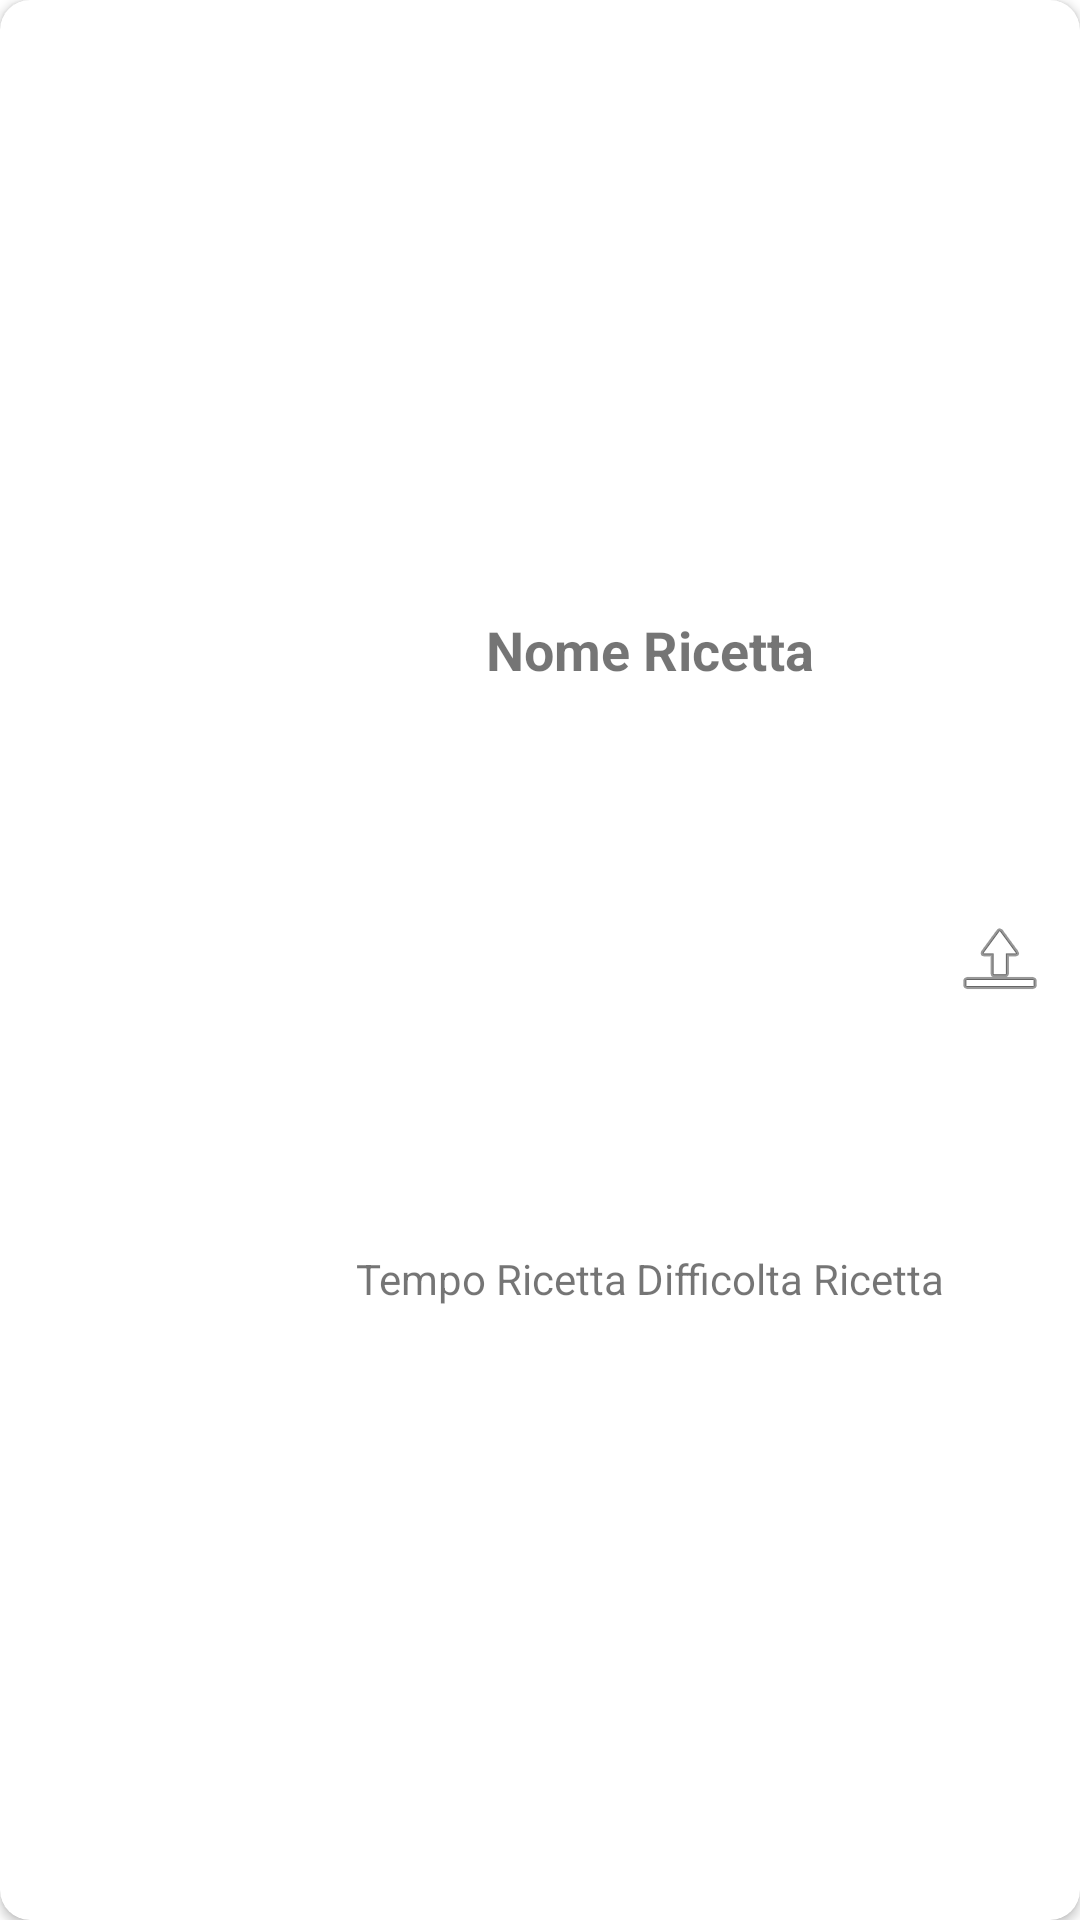

Point at icon controls on the screen. Image size 1080w x 1920h, points as (x,y).
upload: (1000,958)
